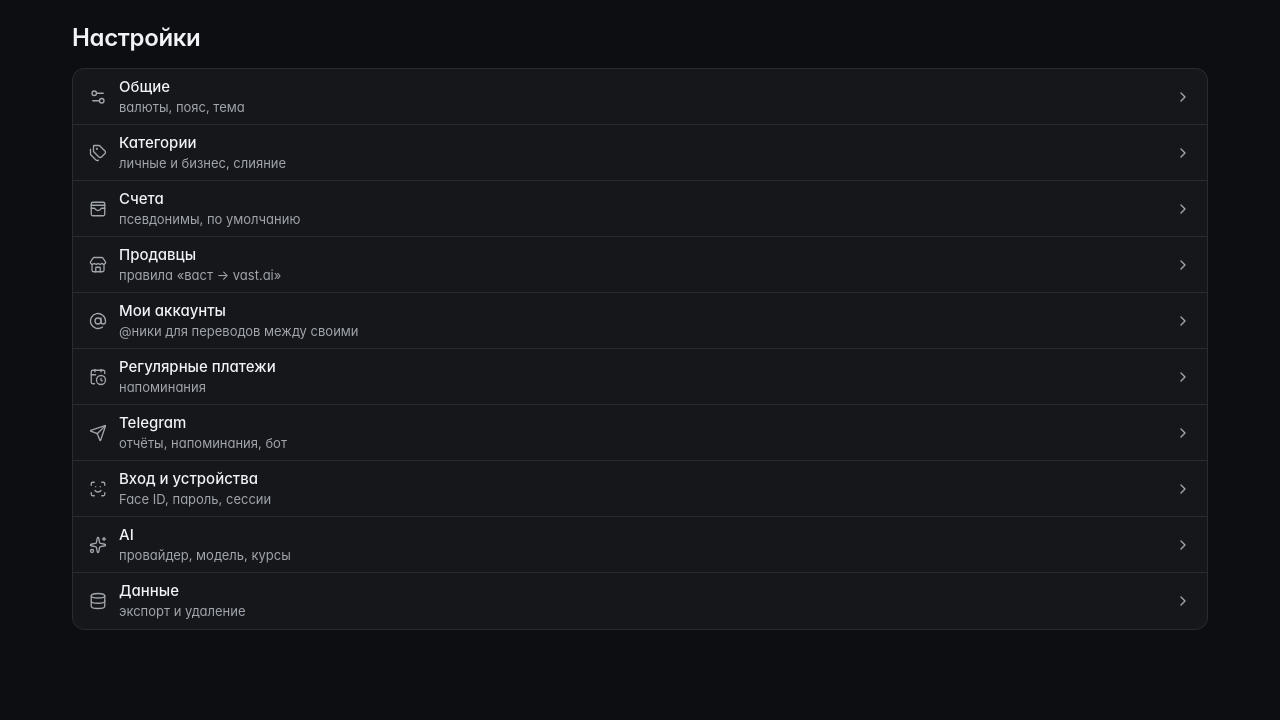
SettingsView › mobile: list of sections, then a section with «‹ Настройки»
Expected: the link "Мои аккаунты @ники для переводов между своими" is shown, [73,293,1207,349]
Click the link "Счета псевдонимы, по умолчанию" at (141, 198), box [73,181,1207,237]
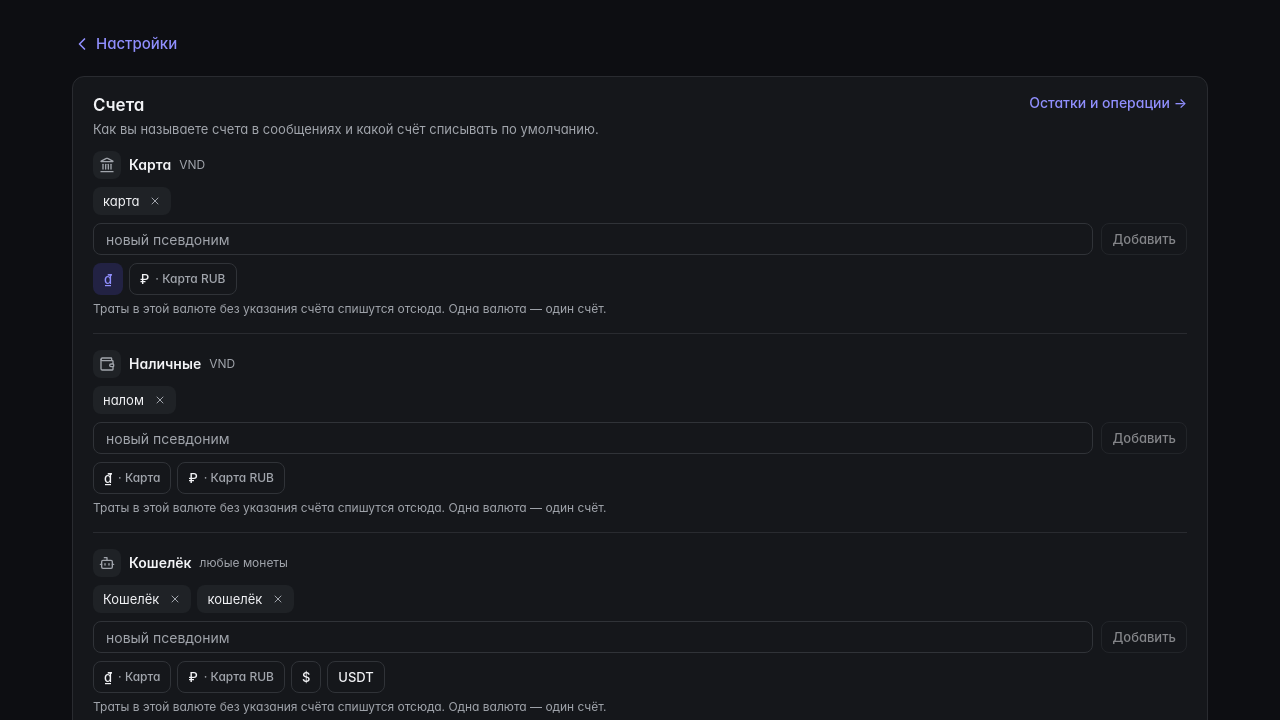
Expected: the link "Настройки" is shown, [72,34,177,54]
Expected: the text "карта" is shown, [93,187,172,215]
